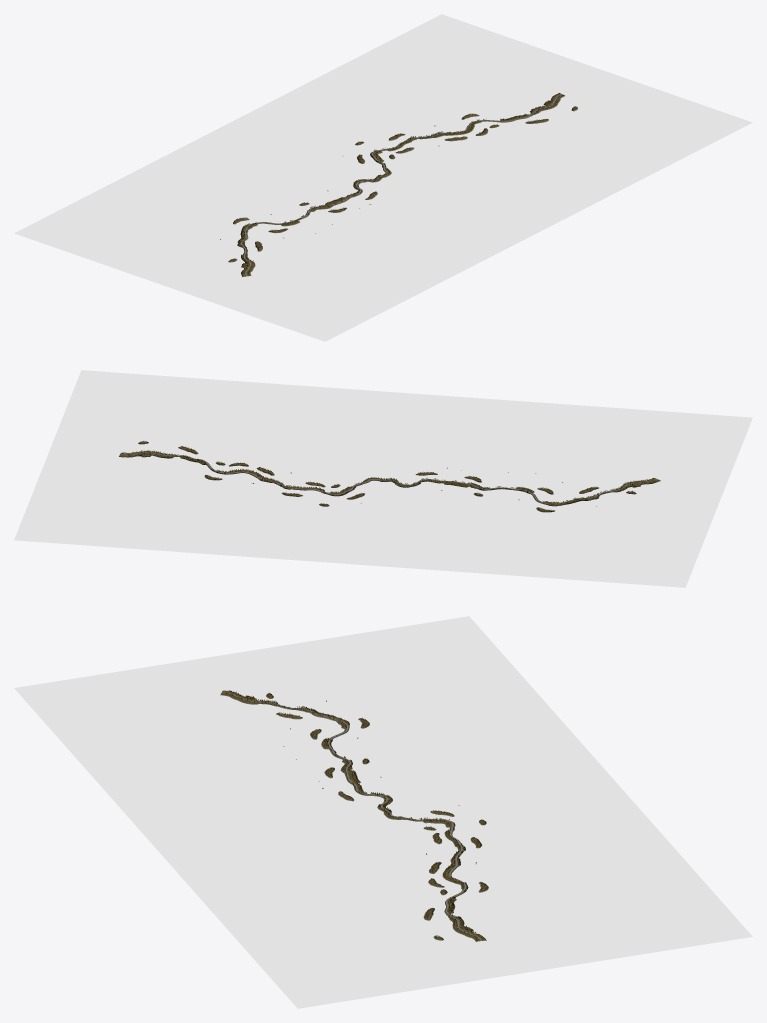
The model's file is finland_stage4_visual.glb.
The picture shows the model from 3 angles, top to bottom: view 1: azimuth 30°, elevation 25°; view 2: azimuth 150°, elevation 25°; view 3: azimuth 270°, elevation 25°; orthographic projection. The views are drawn at different scales.
Visible parts, largest first — view 1: Props_And_Markers, Track_Road_And_Terrain, Foliage_And_Vegetation; view 2: Props_And_Markers, Track_Road_And_Terrain, Foliage_And_Vegetation; view 3: Props_And_Markers, Track_Road_And_Terrain, Foliage_And_Vegetation.
Part boxes in pixels (left/top/right/bottom): Props_And_Markers: left=14, top=14, right=752, bottom=341; Track_Road_And_Terrain: left=229, top=93, right=576, bottom=276; Foliage_And_Vegetation: left=229, top=93, right=576, bottom=274; Props_And_Markers: left=14, top=370, right=752, bottom=587; Track_Road_And_Terrain: left=119, top=441, right=660, bottom=511; Foliage_And_Vegetation: left=120, top=441, right=655, bottom=511; Props_And_Markers: left=14, top=616, right=752, bottom=1008; Track_Road_And_Terrain: left=220, top=690, right=486, bottom=941; Foliage_And_Vegetation: left=223, top=690, right=486, bottom=940.
Bounding box in the file's own units: 6790 × 54.26 × 5401.
51 materials, 51 textured.
